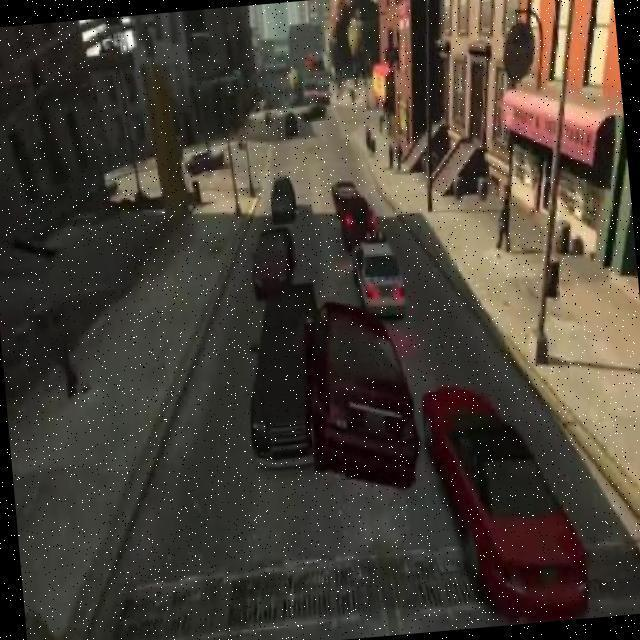accident: (267, 282, 402, 475)
